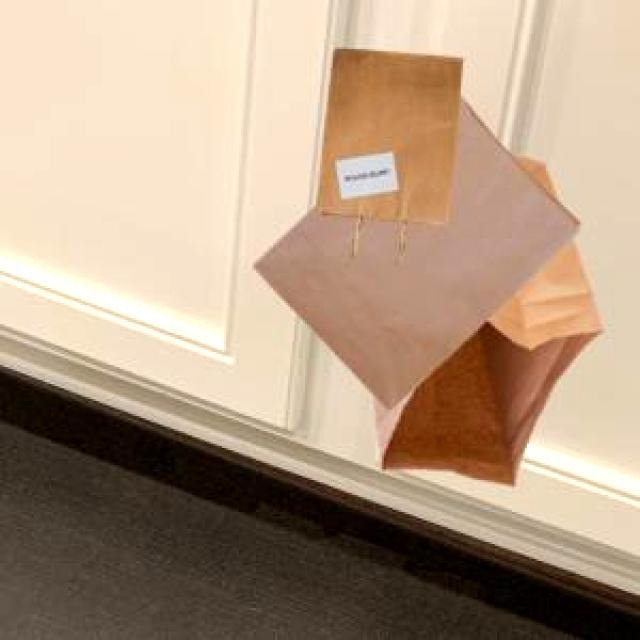Paper_Bag: (250, 90, 578, 407), (370, 152, 601, 484), (314, 46, 460, 255)
